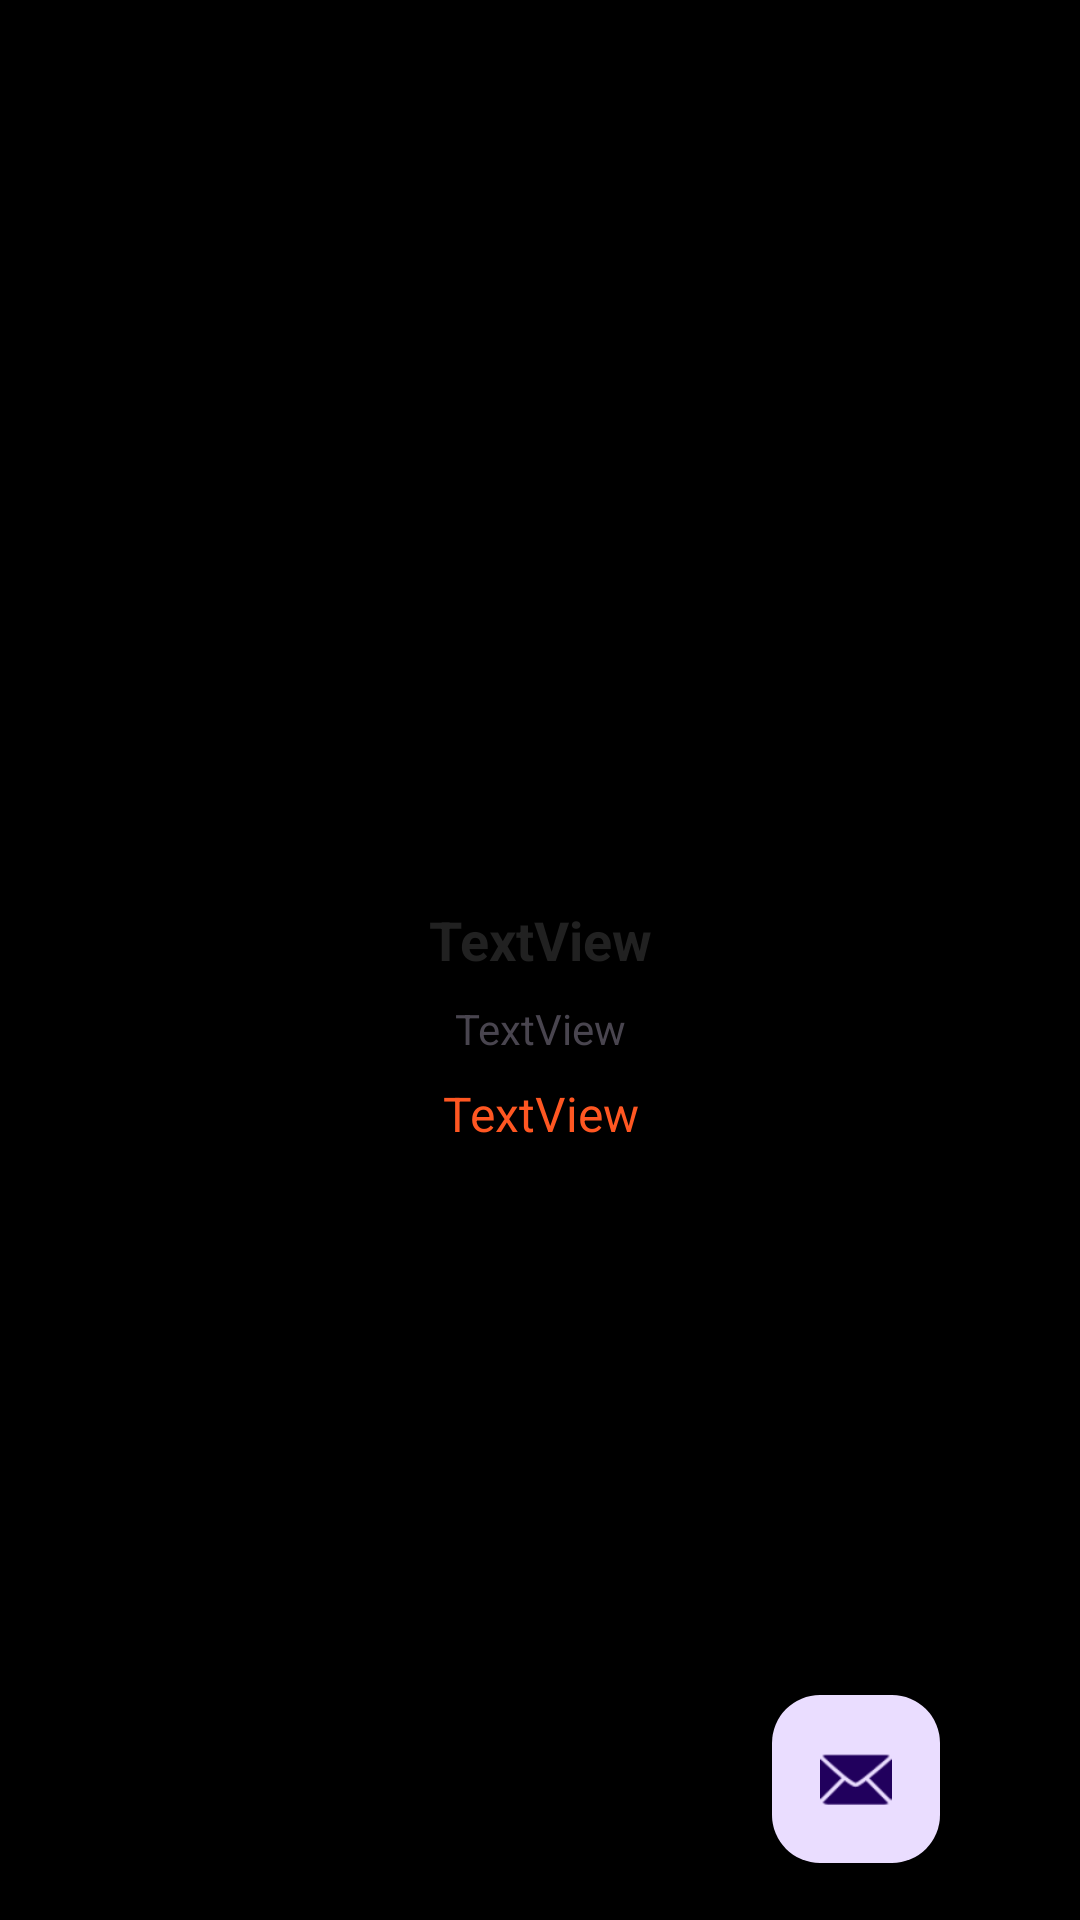

Screen size 1080 × 1920. Icon name, then its center in pixels as [x,y]:
email: [856,1779]
